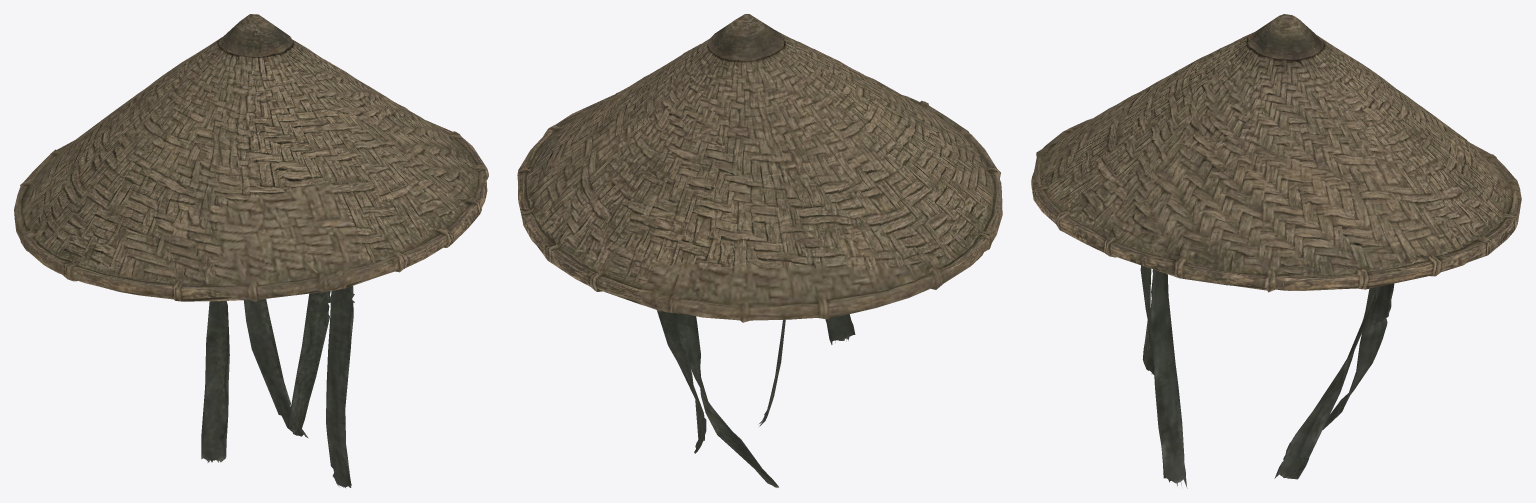
The model's file is item_bamboo_hat.glb.
3 renders of one model, left to right at view 1: azimuth 30°, elevation 25°; view 2: azimuth 150°, elevation 25°; view 3: azimuth 270°, elevation 25°, orthographic. The views are drawn at different scales.
Parts seen in each view (by area): view 1: NormalizedProp; view 2: NormalizedProp; view 3: NormalizedProp.
Part boxes in pixels (<box>): NormalizedProp: <box>14,14,488,487</box>; NormalizedProp: <box>517,14,1002,487</box>; NormalizedProp: <box>1031,14,1521,488</box>.
Size of the model in its own units: 0.2643 by 0.2715 by 0.2654.
1 material, 1 textured.
